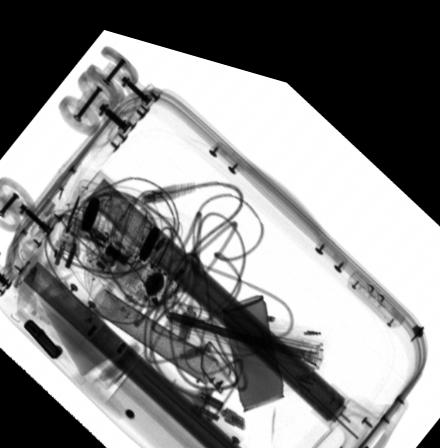Lighter: (22, 317, 62, 356)
